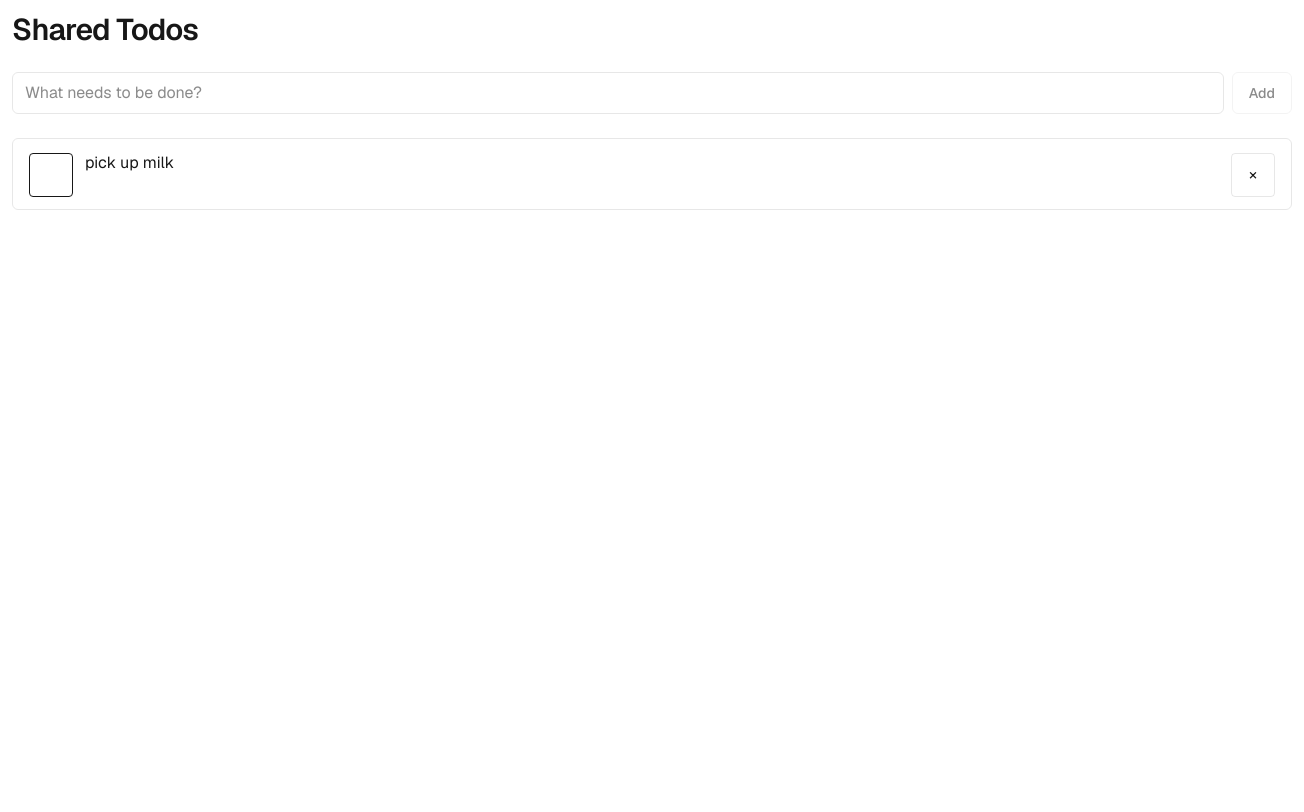
Scenario: <TodoApp /> mutation-failure toasts › toggle-failure shows the mapped (not raw) message in the Toast
The width and height of the screenshot is (1304, 812).
Click the checkbox named "pick up milk": (51, 175) [29,153,73,197]
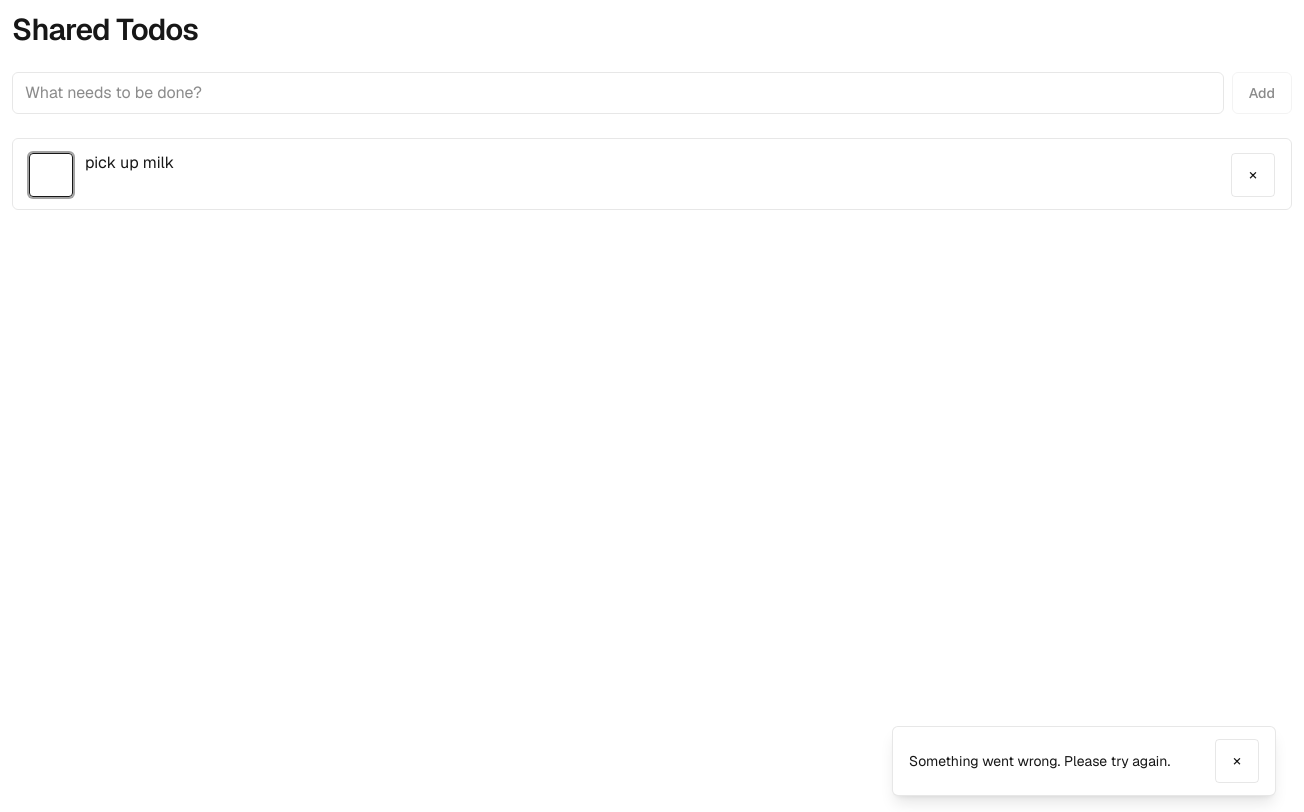
Expected: the text with test id "toast-description" reads "Something went wrong. Please try again.", [909,752,1170,770]
